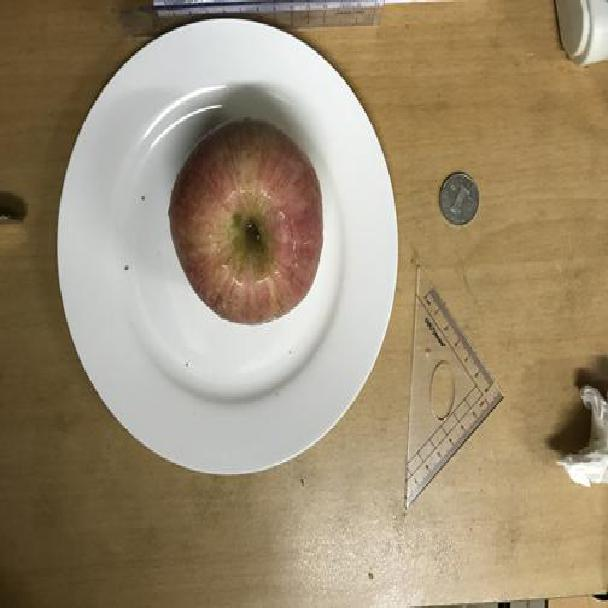apple: (167, 115, 332, 328)
